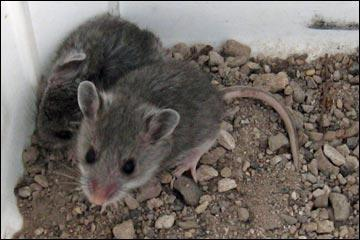rat: (76, 61, 300, 206)
